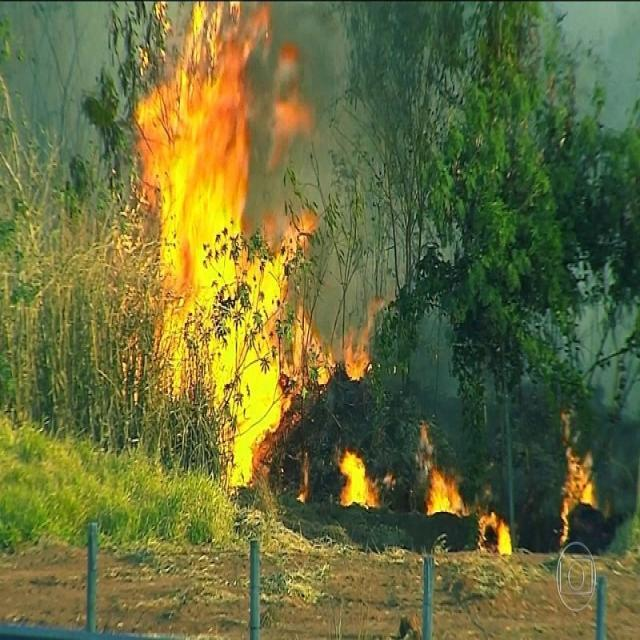Fire: (126, 4, 333, 492), (554, 406, 602, 544), (340, 292, 392, 378), (328, 441, 389, 514), (427, 456, 471, 520), (469, 503, 516, 552)
